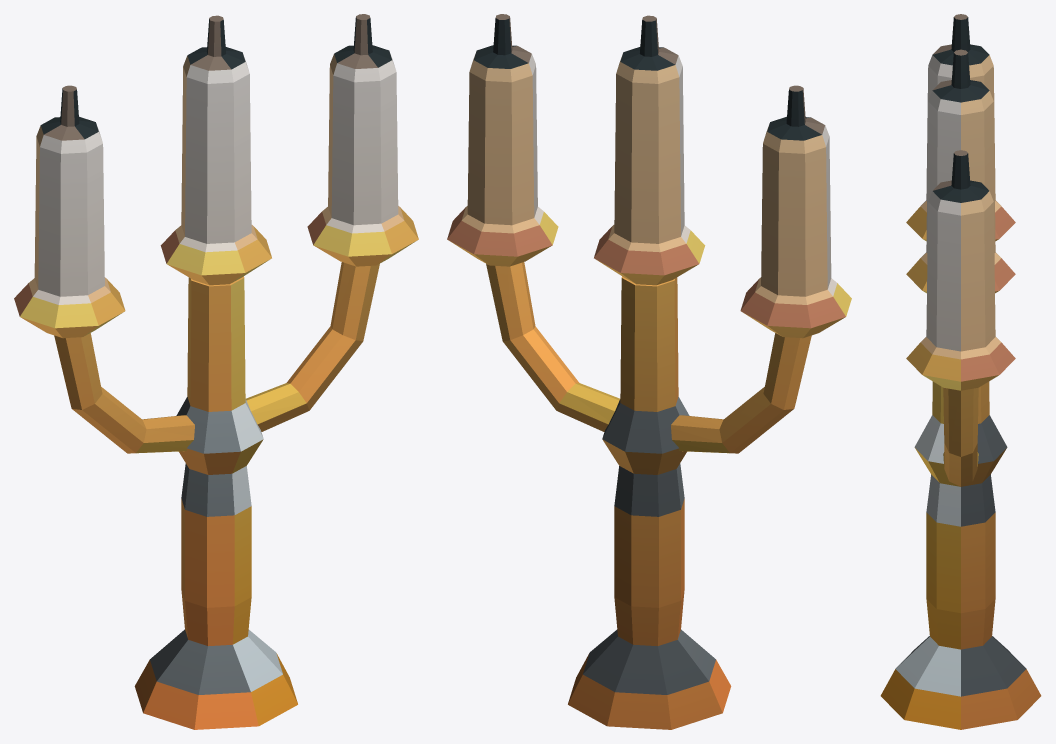
The model's file is source.glb.
The picture shows the model from 3 angles, left to right: view 1: azimuth 30°, elevation 25°; view 2: azimuth 150°, elevation 25°; view 3: azimuth 270°, elevation 25°; orthographic projection. The views are drawn at different scales.
Parts seen in each view (by area): view 1: model; view 2: model; view 3: model.
Part boxes in pixels (x1=…): model: x1=14, y1=14, x2=418, y2=729; model: x1=447, y1=14, x2=851, y2=729; model: x1=880, y1=14, x2=1041, y2=729.
Size of the model in its own units: 0.724 by 1.19 by 0.27.
1 material, 1 textured.
